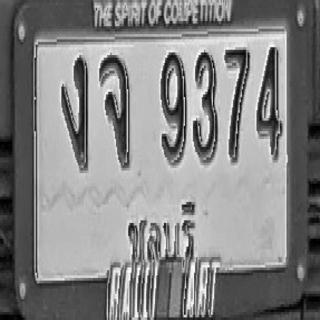A07: (61, 55, 88, 170)
A08: (99, 52, 130, 168)
N03: (193, 50, 218, 163)
N04: (256, 44, 282, 160)
N07: (224, 47, 250, 163)
N09: (161, 50, 186, 163)
P13: (122, 194, 198, 264)
